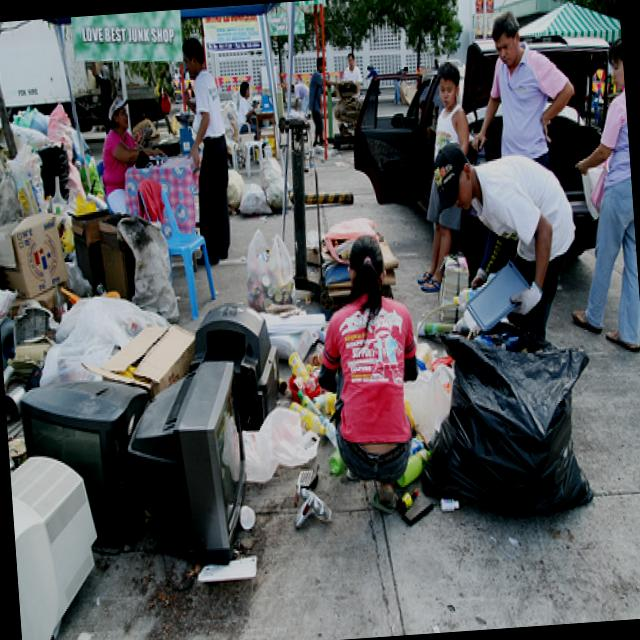garbage: (0, 190, 320, 638), (420, 300, 598, 556)
